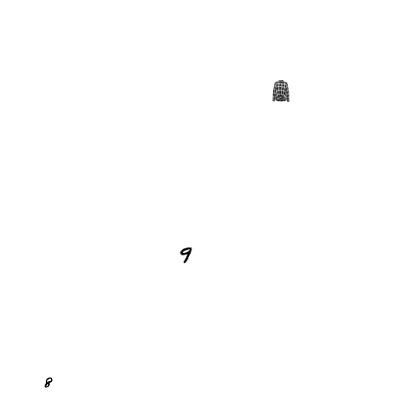0: (181, 223, 223, 265)
1: (92, 70, 114, 92)
7: (345, 191, 367, 213)
Dress: (257, 207, 279, 229)
